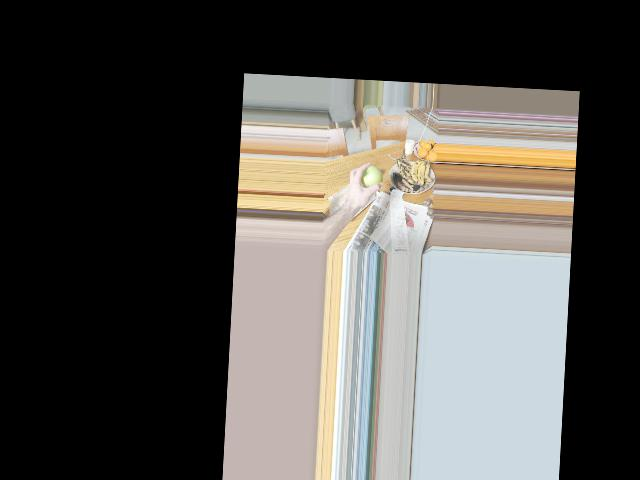apple: (357, 164, 382, 193)
